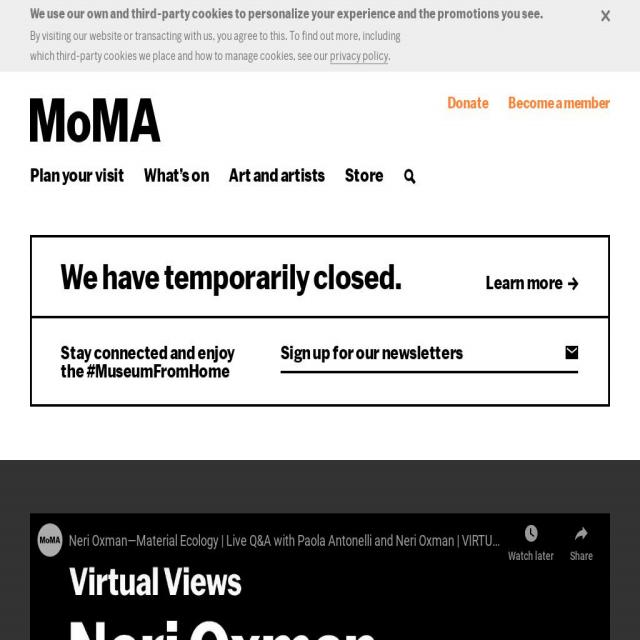navigation-links: (14, 163, 388, 195), (442, 87, 616, 118)
search: (394, 162, 426, 190)
video: (26, 512, 614, 638)
